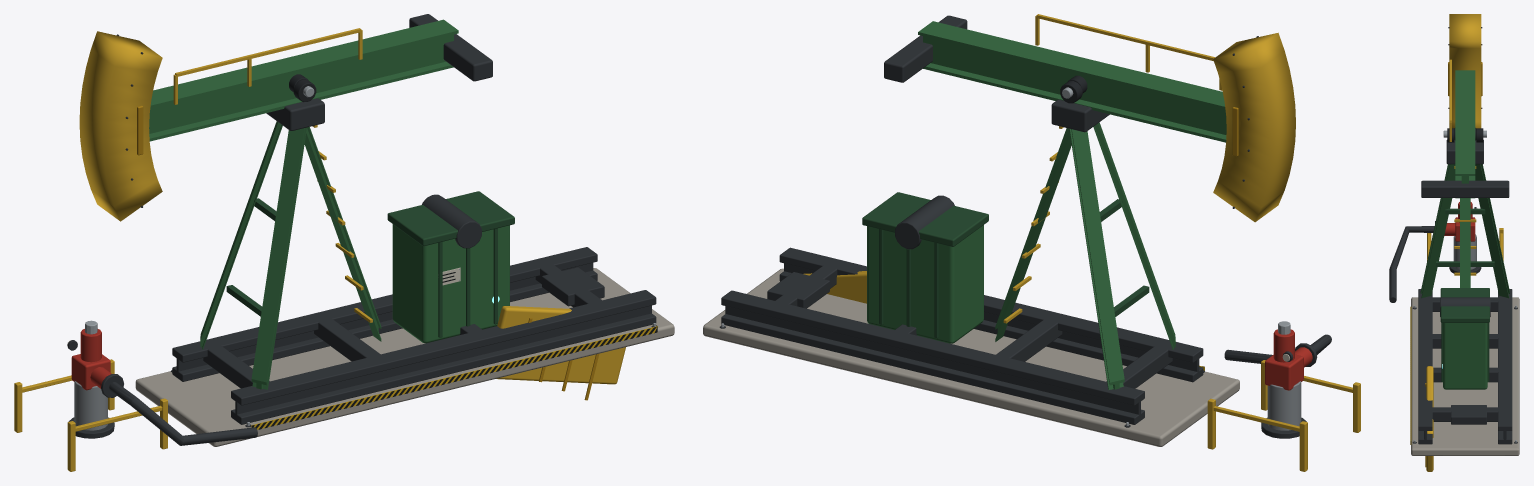
The model's file is fy_pumpjack.glb.
The picture shows the model from 3 angles, left to right: view 1: azimuth 30°, elevation 25°; view 2: azimuth 150°, elevation 25°; view 3: azimuth 270°, elevation 25°; orthographic projection. The views are drawn at different scales.
Parts seen in each view (by area): view 1: block.001, horsehead, block.021, bar.011, block.006, bar.013, block.005, block.003, bar.005, block.007, block.031, block.025 (+20 smaller); view 2: block.001, horsehead, block.021, block.003, bar.011, bar.013, block.002, block.006, bar.002, block.004, block.025, bar.012 (+19 smaller); view 3: block.001, block.021, horsehead, bar.013, block.003, block.006, block.043, block.025, bar.004, bar.001, bar.008, pipe (+19 smaller).
Boxes of the visible parts, x1=… form: block.001: x1=135, y1=268, x2=674, y2=446; horsehead: x1=79, y1=31, x2=162, y2=221; block.021: x1=392, y1=224, x2=509, y2=343; bar.011: x1=149, y1=34, x2=453, y2=133; block.006: x1=231, y1=290, x2=656, y2=405; bar.013: x1=150, y1=19, x2=458, y2=108; block.005: x1=231, y1=313, x2=656, y2=424; block.003: x1=172, y1=247, x2=597, y2=362; bar.005: x1=251, y1=128, x2=304, y2=385; block.007: x1=235, y1=305, x2=651, y2=414; block.031: x1=496, y1=306, x2=625, y2=384; block.025: x1=387, y1=191, x2=514, y2=245; block.001: x1=703, y1=268, x2=1239, y2=446; horsehead: x1=1213, y1=32, x2=1295, y2=222; block.021: x1=867, y1=225, x2=983, y2=343; block.003: x1=721, y1=290, x2=1144, y2=405; bar.011: x1=923, y1=36, x2=1226, y2=134; bar.013: x1=918, y1=21, x2=1225, y2=109; block.002: x1=721, y1=314, x2=1144, y2=424; block.006: x1=779, y1=247, x2=1203, y2=362; bar.002: x1=1071, y1=129, x2=1124, y2=385; block.004: x1=725, y1=306, x2=1140, y2=415; block.025: x1=862, y1=192, x2=988, y2=246; bar.012: x1=923, y1=63, x2=1226, y2=142; block.001: x1=1411, y1=297, x2=1519, y2=455; block.021: x1=1443, y1=323, x2=1487, y2=389; horsehead: x1=1449, y1=14, x2=1481, y2=128; bar.013: x1=1455, y1=70, x2=1475, y2=175; block.003: x1=1498, y1=289, x2=1512, y2=430; block.006: x1=1418, y1=289, x2=1432, y2=430; block.043: x1=1421, y1=180, x2=1509, y2=197; block.025: x1=1440, y1=288, x2=1489, y2=322; bar.004: x1=1421, y1=164, x2=1455, y2=298; bar.001: x1=1475, y1=164, x2=1509, y2=298; bar.008: x1=1460, y1=198, x2=1470, y2=287; pipe: x1=1389, y1=226, x2=1434, y2=302.
Bounding box in the file's own units: 6.43 × 4.65 × 1.8.
